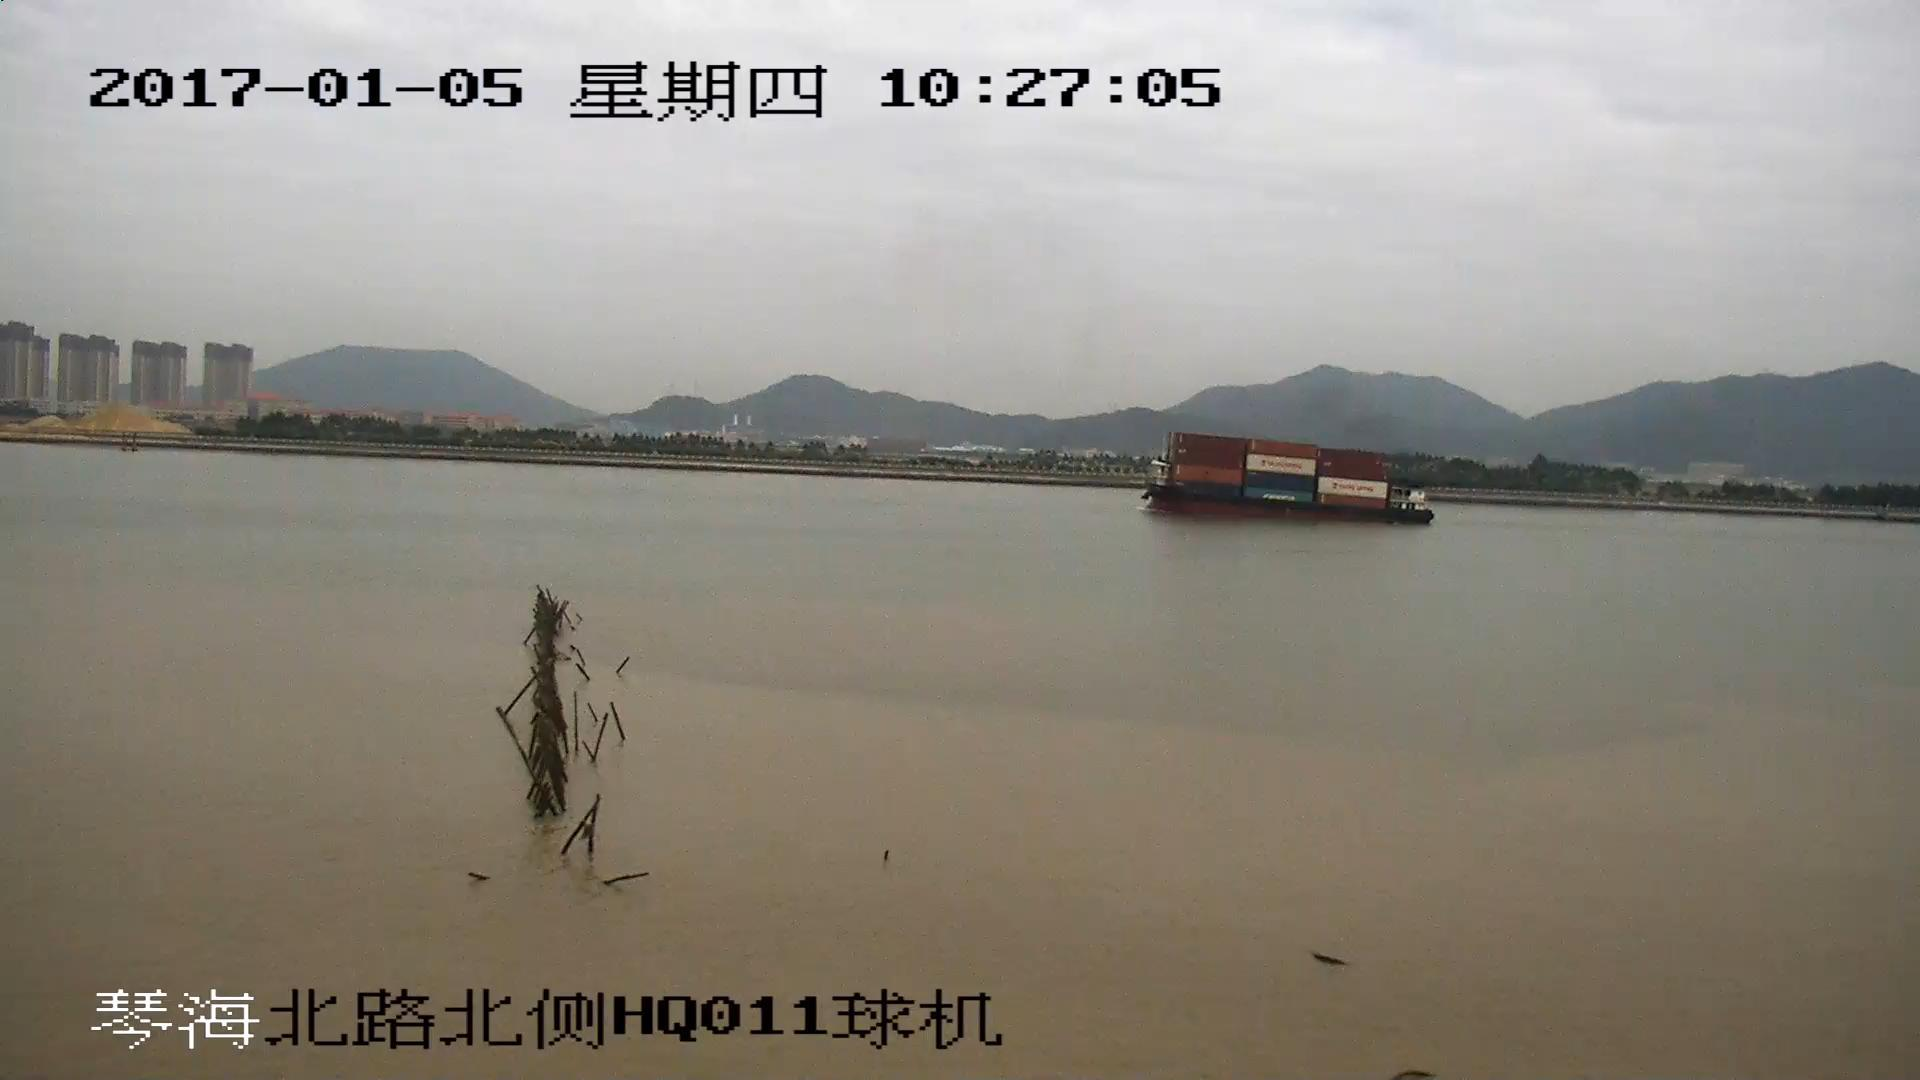Ship: (1146, 436, 1436, 527)
